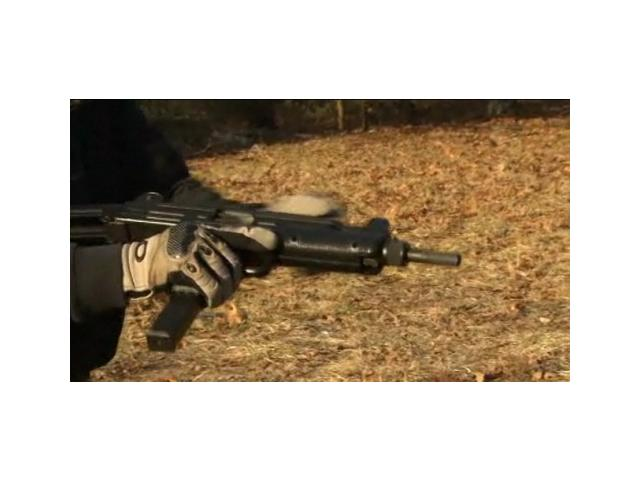pistol: (96, 183, 480, 349)
